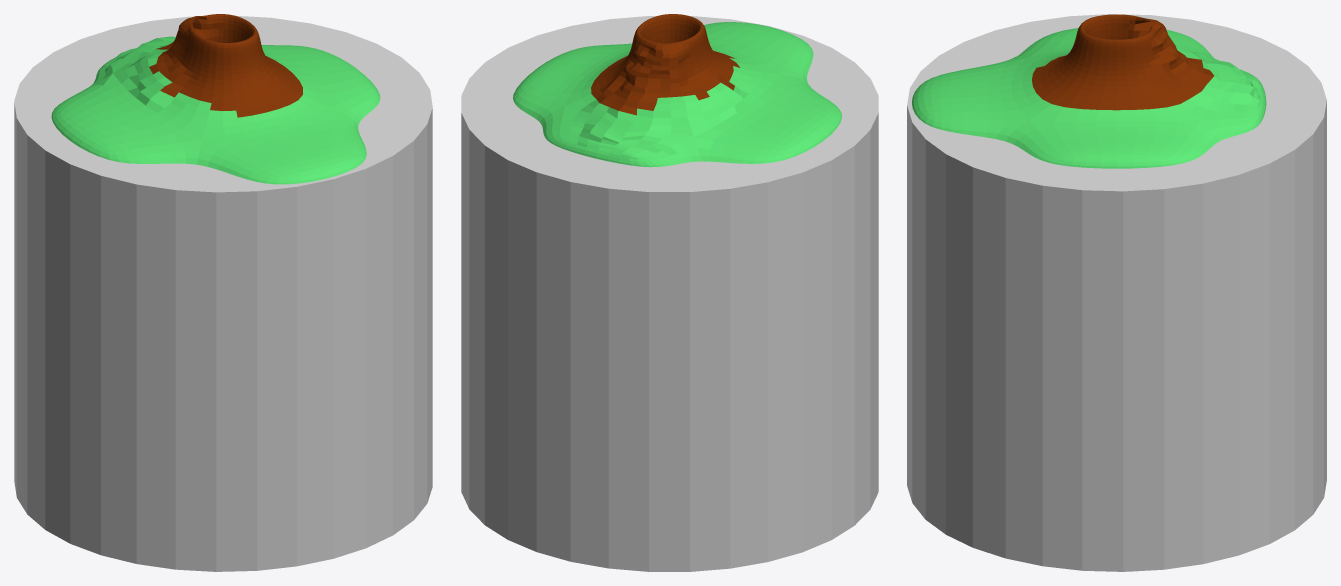
The model's file is volcamp.glb.
3 renders of one model, left to right at view 1: azimuth 30°, elevation 25°; view 2: azimuth 150°, elevation 25°; view 3: azimuth 270°, elevation 25°, orthographic.
Visible parts, largest first — view 1: Cylindre, Cube; view 2: Cylindre, Cube; view 3: Cylindre, Cube.
Part boxes in pixels (box(x1,y1,x2,y2)): Cylindre: box(14, 15, 432, 571); Cube: box(51, 14, 380, 184); Cylindre: box(461, 16, 878, 571); Cube: box(513, 14, 841, 167); Cylindre: box(907, 14, 1326, 571); Cube: box(912, 14, 1266, 168).
Size of the model in its own units: 99.84 by 120 by 99.84.
